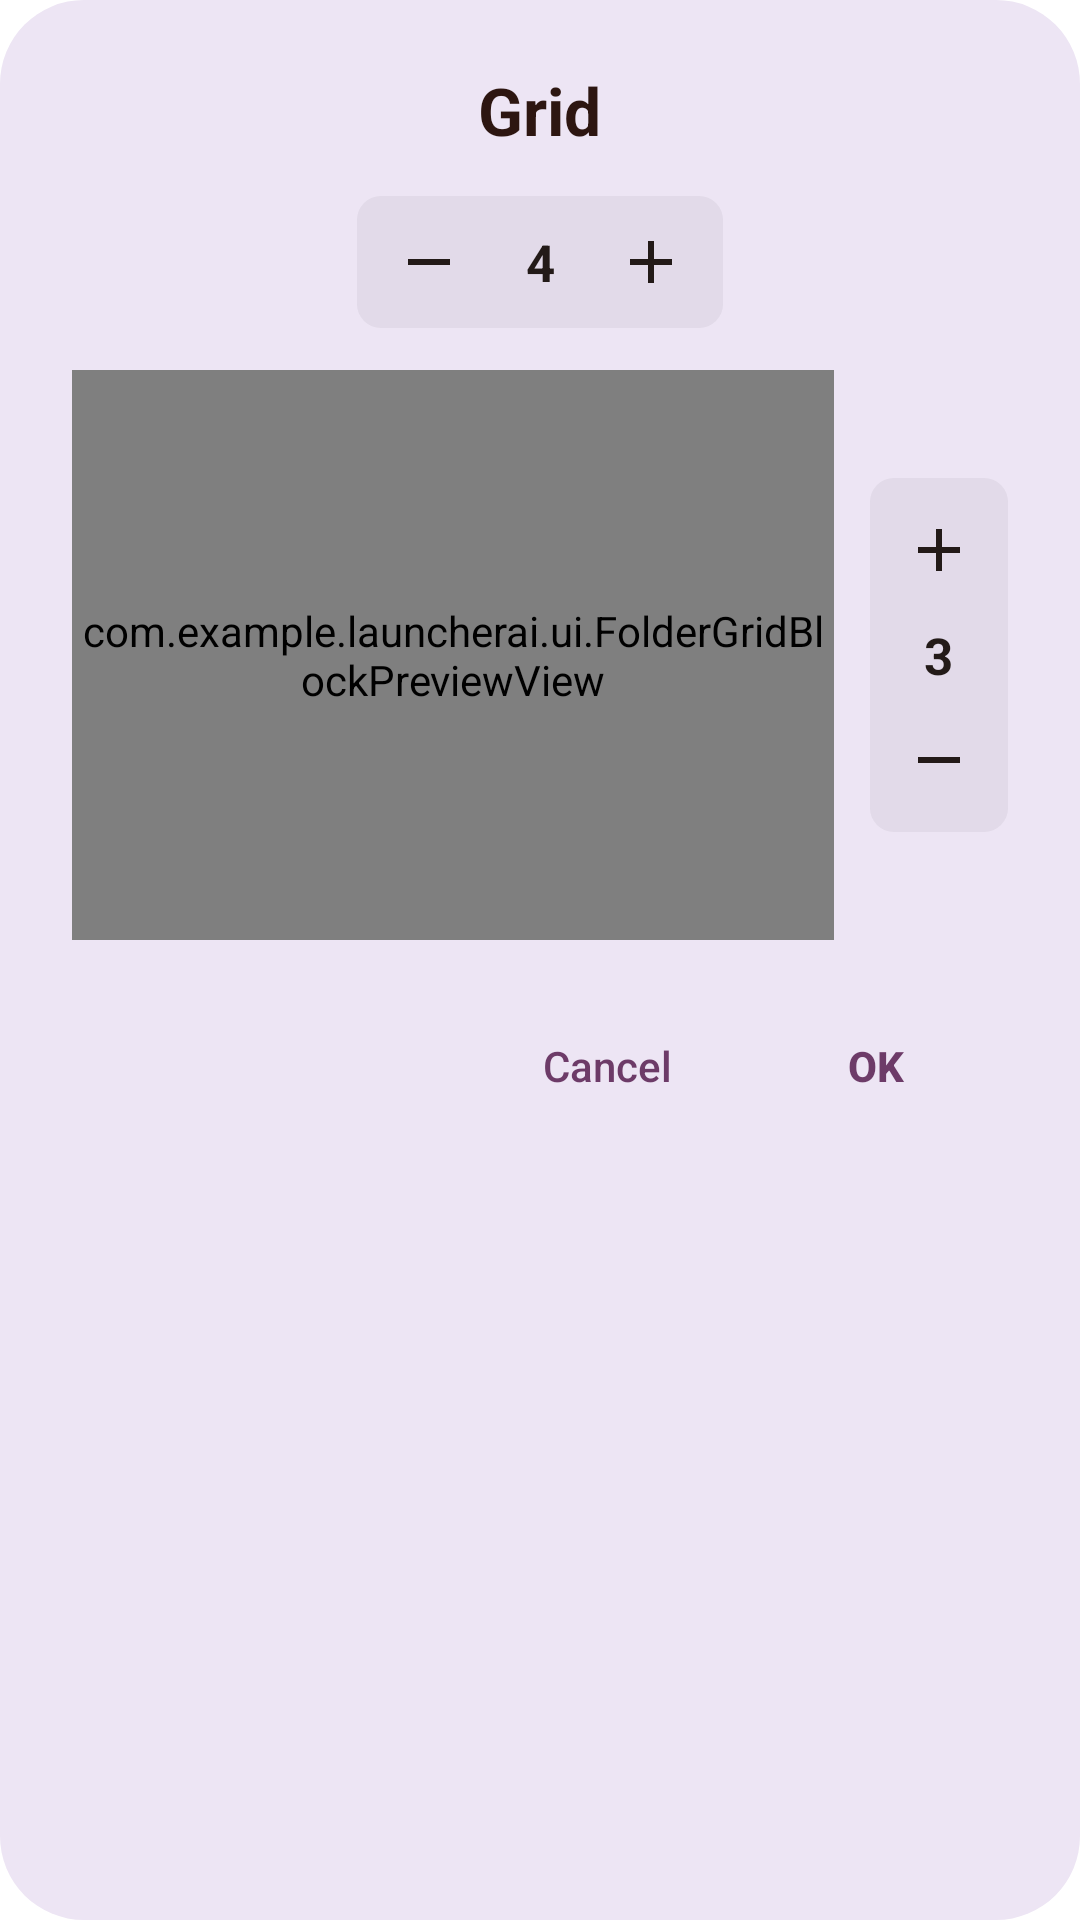

Named icons in this screenshot (1080*1920) and their bounding boxes, (x1, y1, x2, y2):
Increase columns: (630, 241, 672, 283)
Increase rows: (918, 529, 960, 571)
